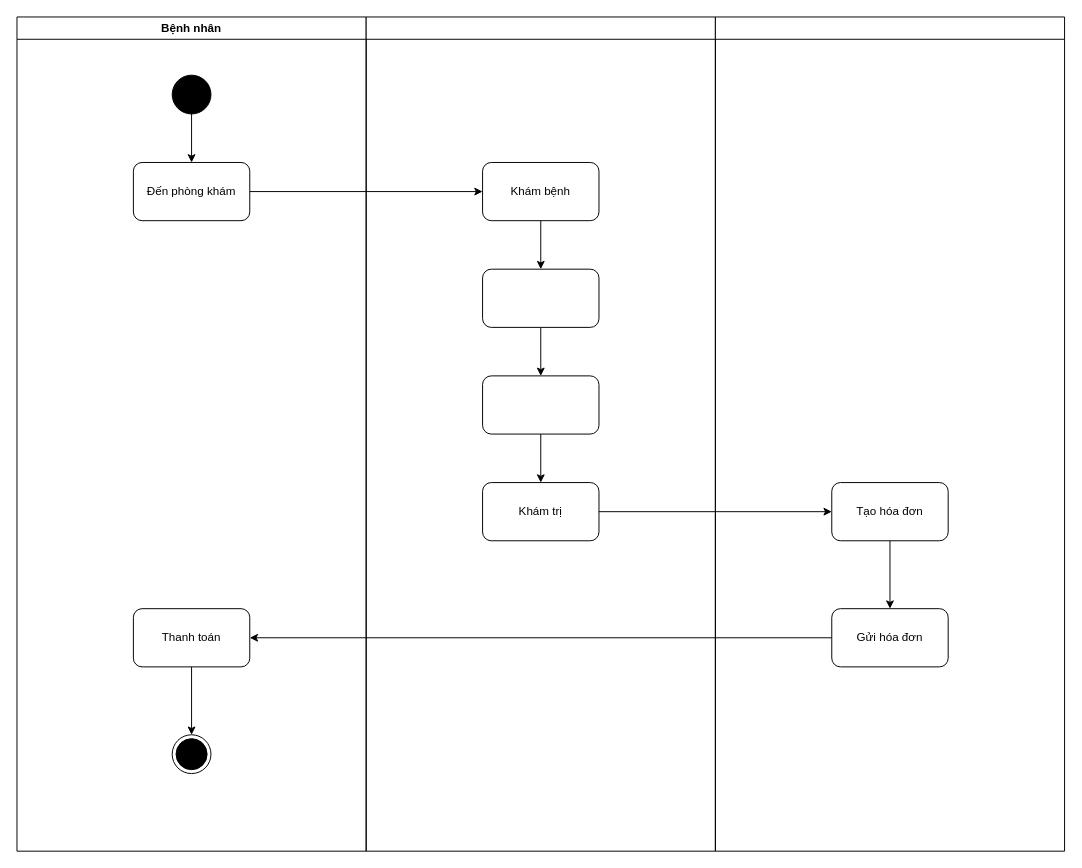
Some shapes in this 1082 by 868 pixel diagram are drawn without their labels. Each missing label, with the box of its shape:
Bác sĩ: (365, 16, 715, 851)
Chuẩn đoán bệnh: (482, 268, 599, 327)
Ghi hồ sơ điều trị: (482, 375, 599, 434)
Lễ tân: (714, 16, 1065, 851)
